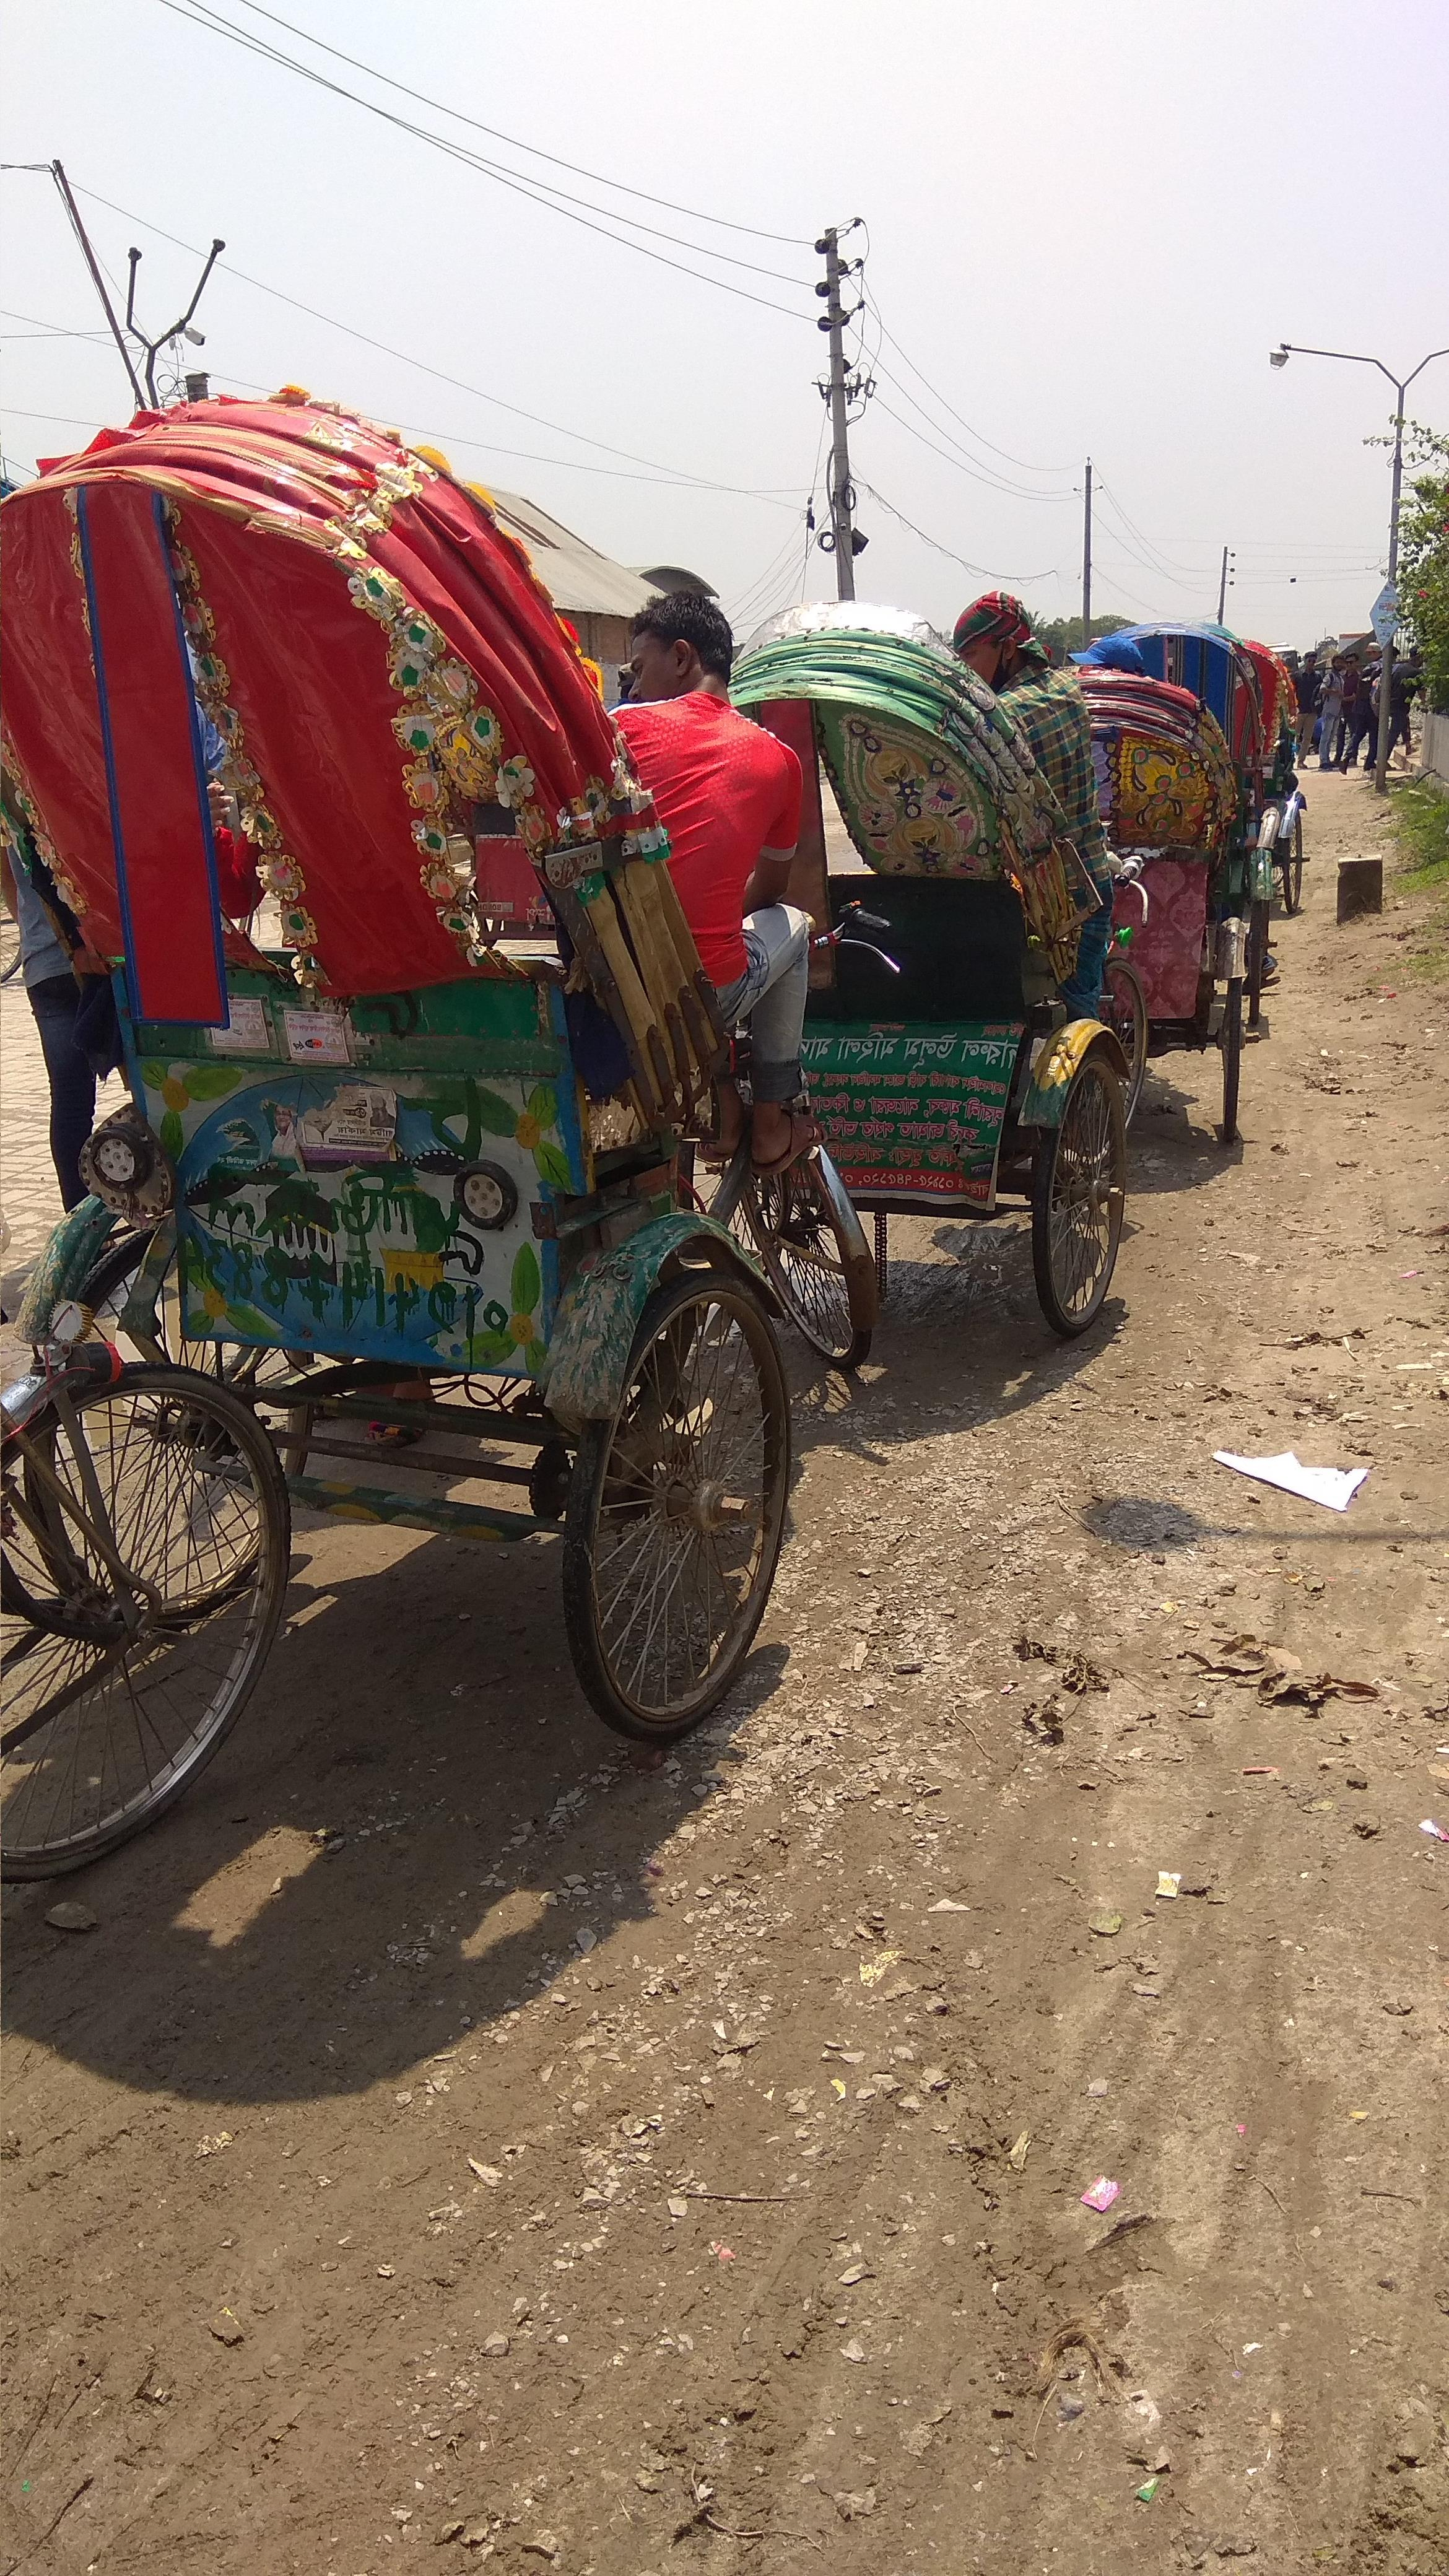Rickshaw: (23, 356, 824, 1769), (720, 559, 1203, 1375), (1051, 640, 1279, 1123), (1109, 582, 1315, 828)
